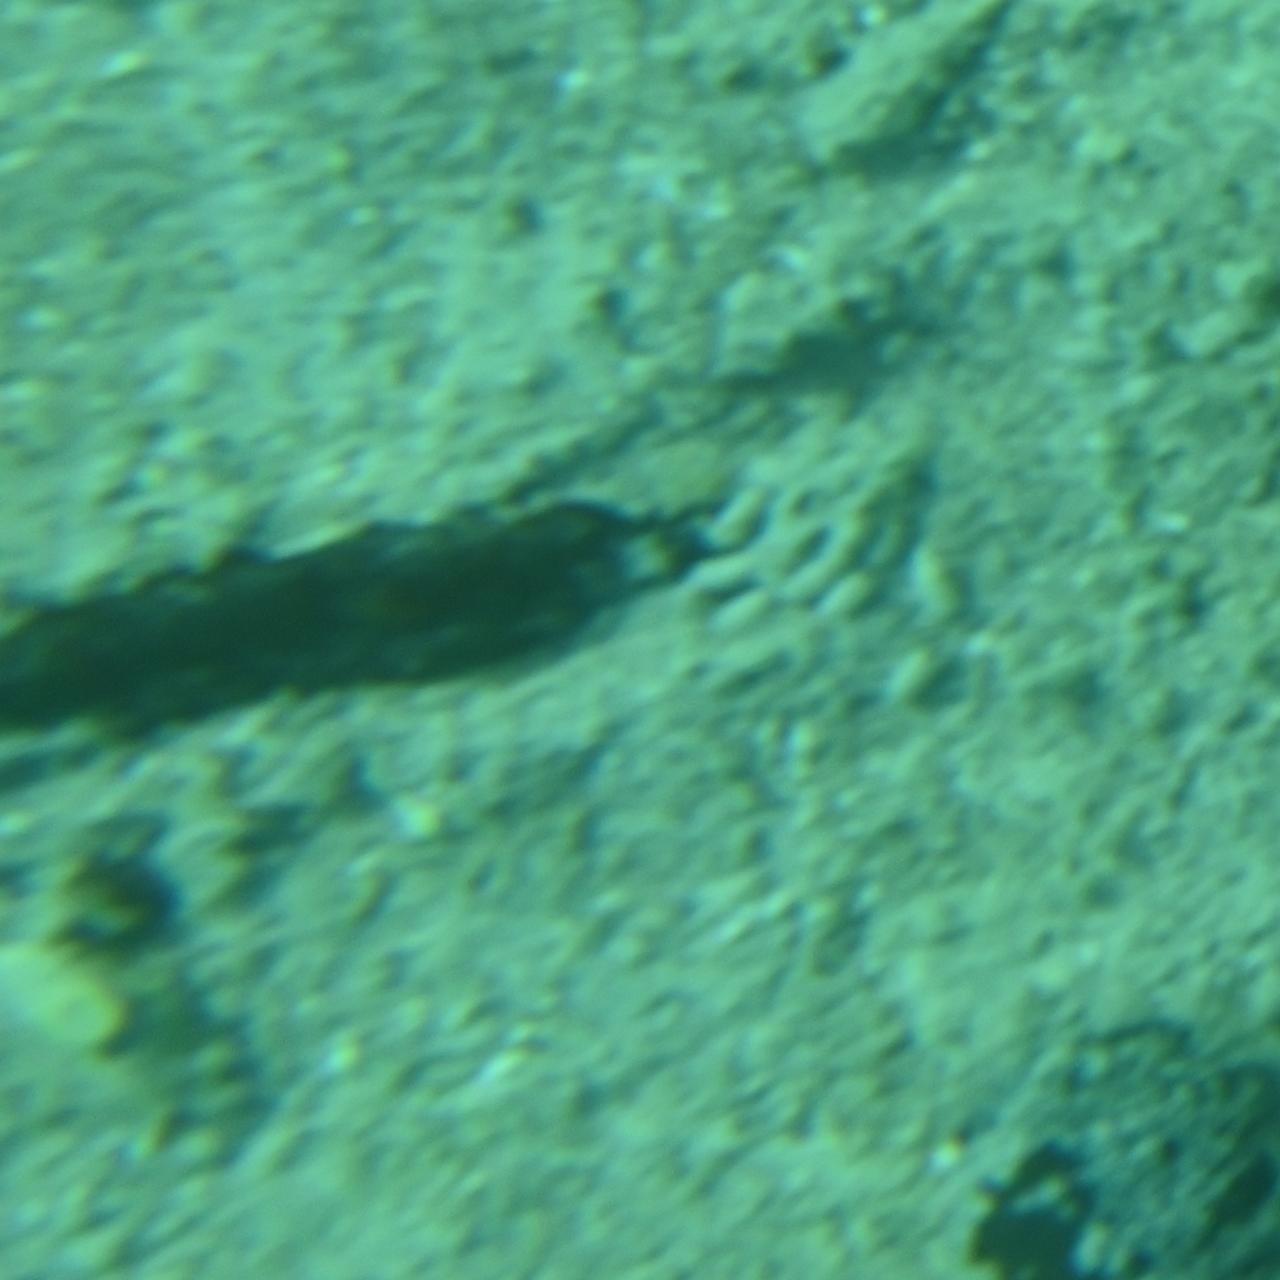Holothuria tubulosa: (0, 481, 745, 799)
